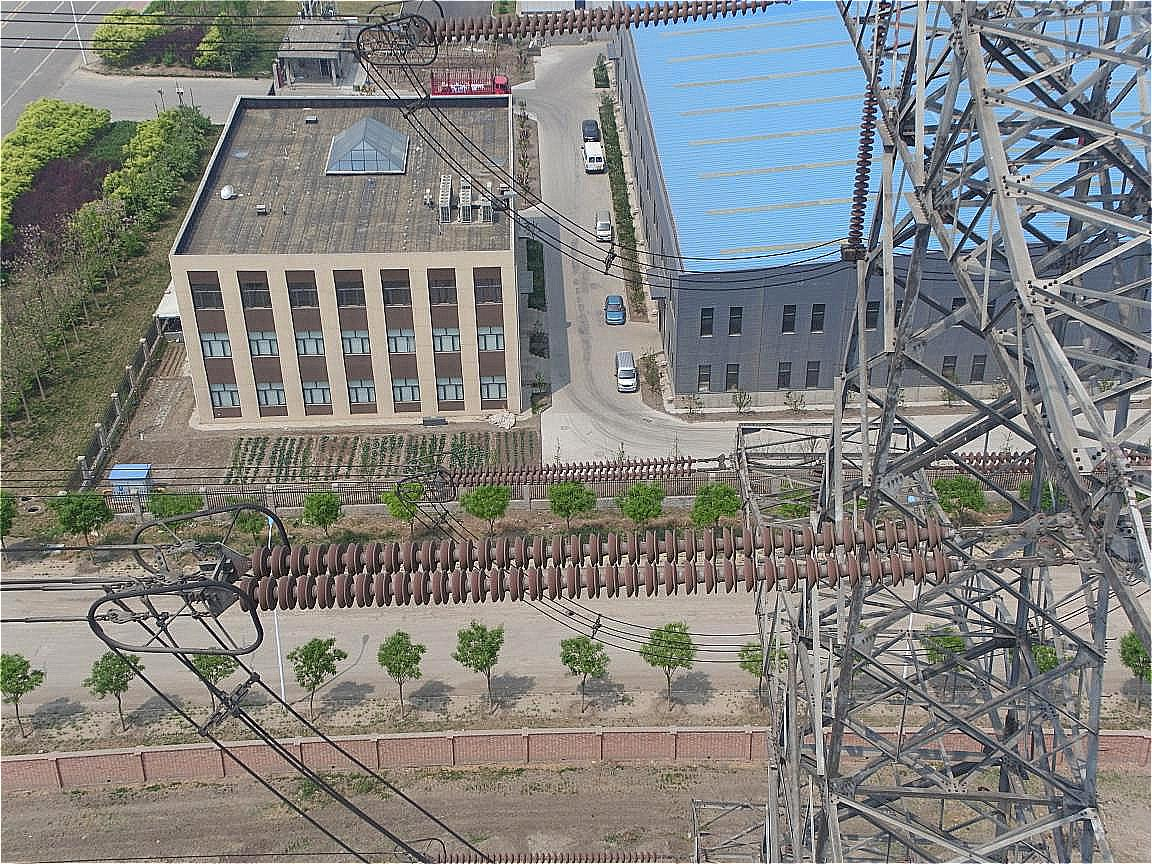insultor1: (407, 1, 801, 55), (425, 451, 706, 484)
insultor2: (162, 511, 969, 620)
